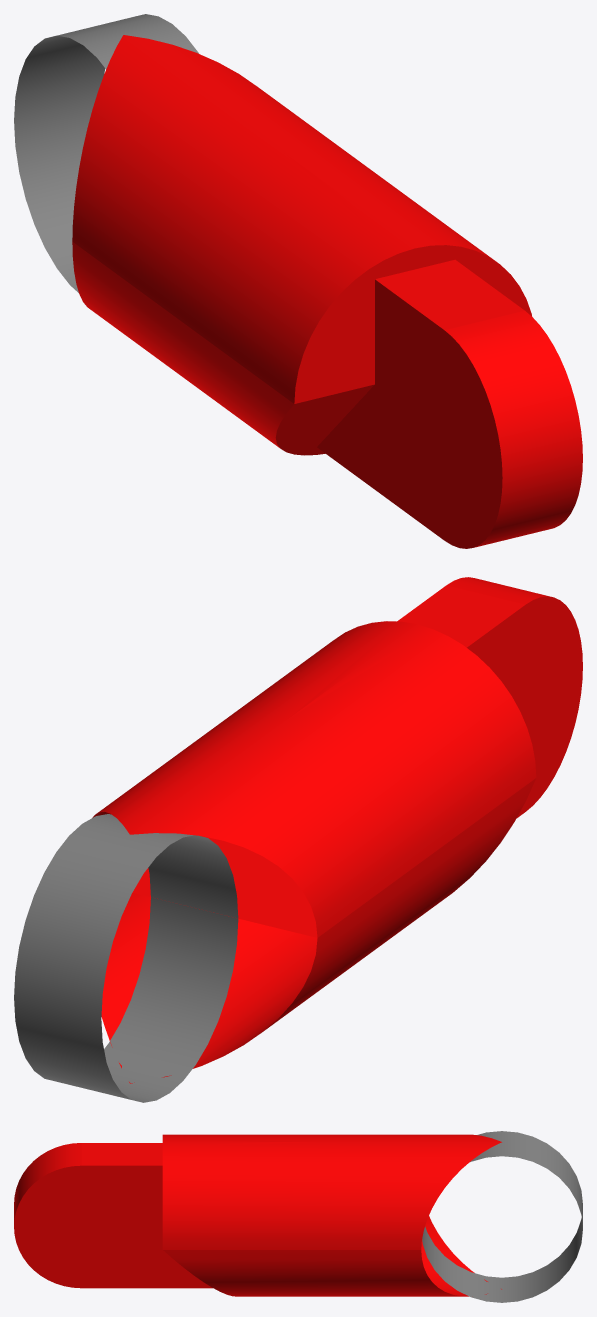
3 views of the same model, one above another, from view 1: azimuth 30°, elevation 25°; view 2: azimuth 150°, elevation 25°; view 3: azimuth 270°, elevation 25° (orthographic). The views are drawn at different scales.
Parts seen in each view (by area): view 1: arm_visual; view 2: arm_visual; view 3: arm_visual.
Part boxes in pixels (left/top/right/bottom): arm_visual: left=14, top=14, right=582, bottom=548; arm_visual: left=14, top=577, right=582, bottom=1102; arm_visual: left=14, top=1131, right=582, bottom=1302.
Bounding box in the file's own units: 0.1524 × 0.5345 × 0.1524.
